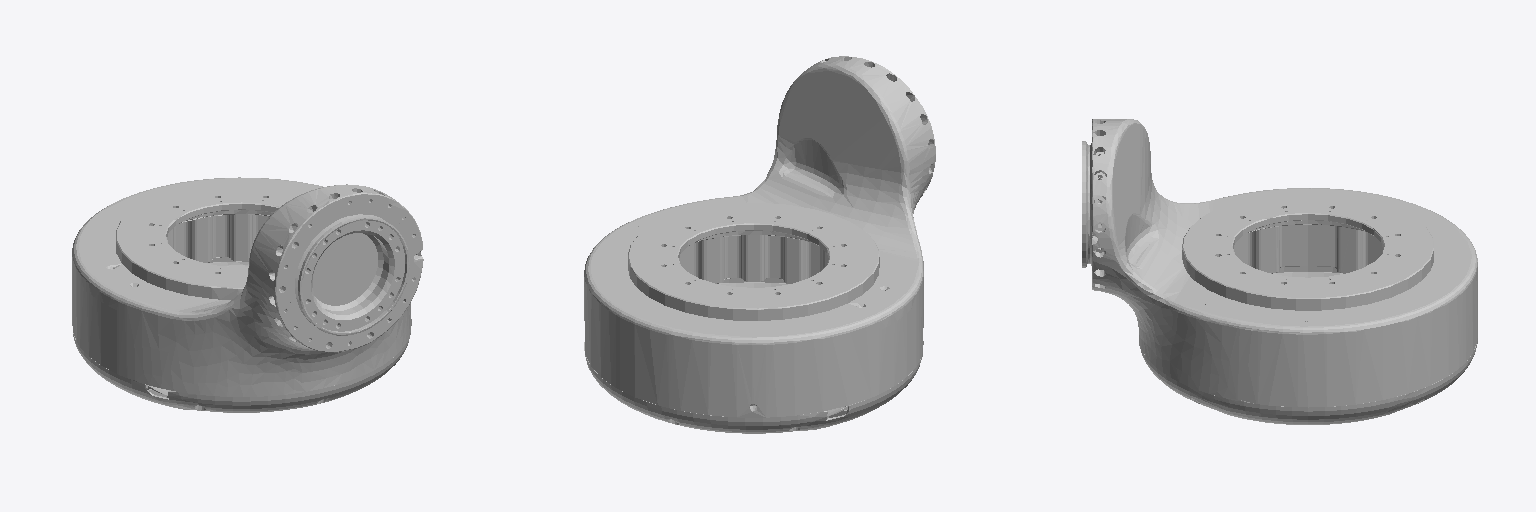
The model's file is right_thigh_yaw_link.obj.
The picture shows the model from 3 angles: view 1: azimuth 30°, elevation 25°; view 2: azimuth 150°, elevation 25°; view 3: azimuth 270°, elevation 25°; orthographic projection.
Visible parts, largest first — view 1: right_thigh_yaw_link; view 2: right_thigh_yaw_link; view 3: right_thigh_yaw_link.
Boxes of the visible parts, x1,y1,x2,y2 form: right_thigh_yaw_link: [72, 177, 423, 412]; right_thigh_yaw_link: [584, 56, 935, 433]; right_thigh_yaw_link: [1082, 119, 1477, 424].
Size of the model in its own units: 0.168 by 0.1414 by 0.196.